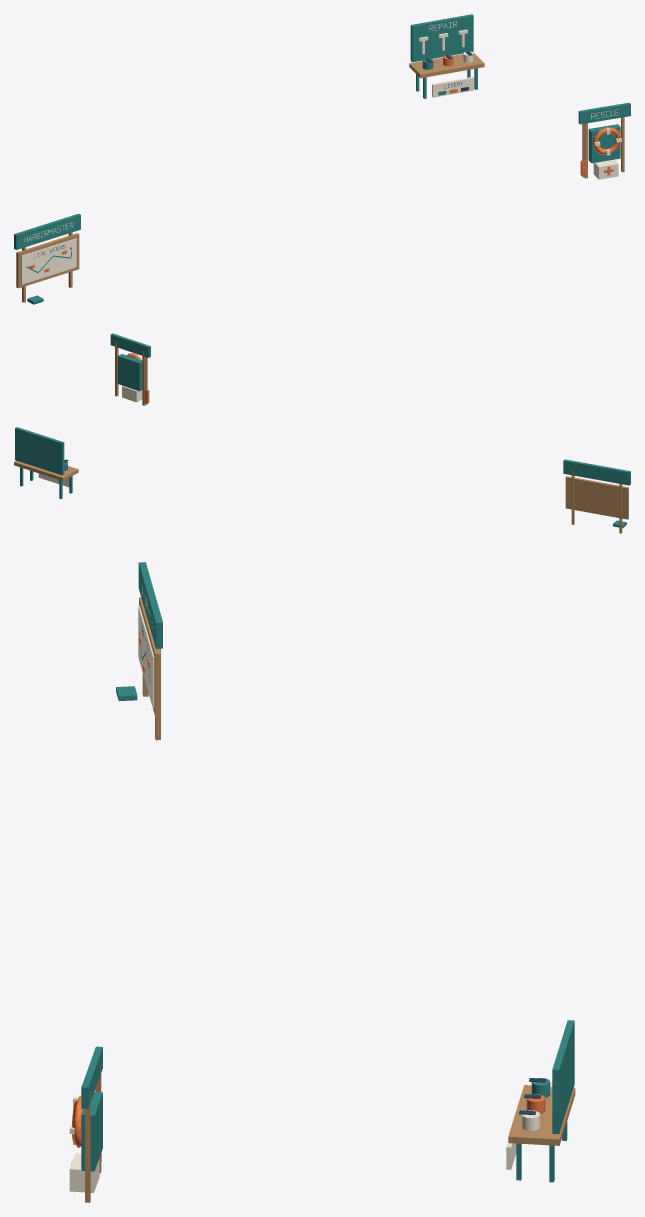
Rendered from harbor.glb.
3 renders of one model, top to bottom at view 1: azimuth 30°, elevation 25°; view 2: azimuth 150°, elevation 25°; view 3: azimuth 270°, elevation 25°, orthographic. The views are drawn at different scales.
Parts seen in each view (by area): view 1: static_detail_teal, static_detail_ivory, static_detail_wood, static_detail_orange; view 2: static_detail_teal, static_detail_wood, static_detail_ivory; view 3: static_detail_teal, static_detail_wood, static_detail_ivory.
Part boxes in pixels (x1,y1,x2,y2): static_detail_teal: (14, 14, 630, 304); static_detail_ivory: (21, 21, 621, 284); static_detail_wood: (16, 52, 624, 302); static_detail_orange: (29, 55, 620, 272); static_detail_teal: (15, 333, 630, 527); static_detail_wood: (14, 341, 628, 533); static_detail_ivory: (38, 353, 142, 487); static_detail_teal: (81, 562, 574, 1182); static_detail_wood: (85, 597, 575, 1202); static_detail_ivory: (69, 583, 552, 1192).
Bounding box in the file's own units: 20.95 × 2.35 × 8.61.
